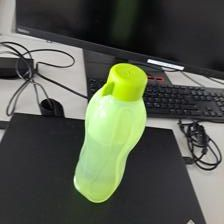bottle: (70, 62, 150, 203)
